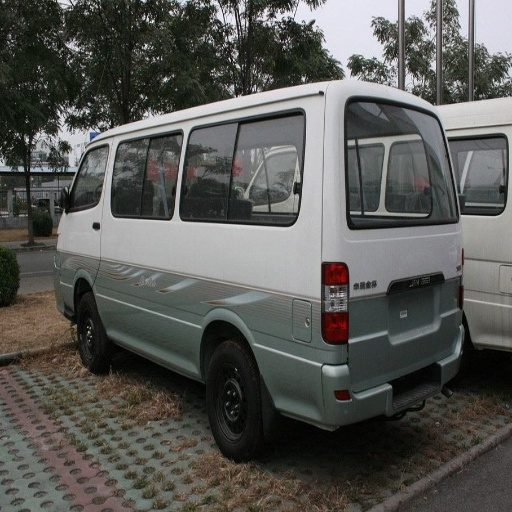back_bumper: (271, 346, 433, 429)
back_glass: (359, 147, 442, 216)
back_left_door: (244, 131, 297, 175)
back_left_light: (322, 266, 348, 343)
trunk: (123, 225, 423, 390), (215, 248, 306, 283), (69, 212, 103, 272)
